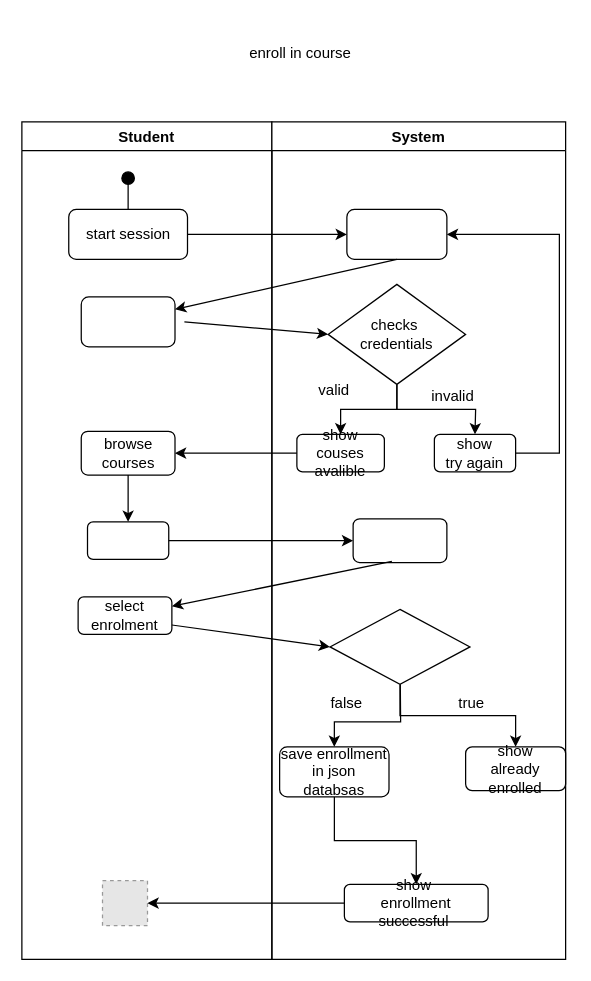
The diagram is 591 pixels wide and 981 high, and some of its shapes have lost their labels. Grey dashed boxes stand in for pictures. Each missing label, with the centre of its shape:
check if enrolled: pixel 399 646
request log in: pixel 396 233
select course: pixel 127 540
show course details: pixel 399 540
student login: pixel 127 321
